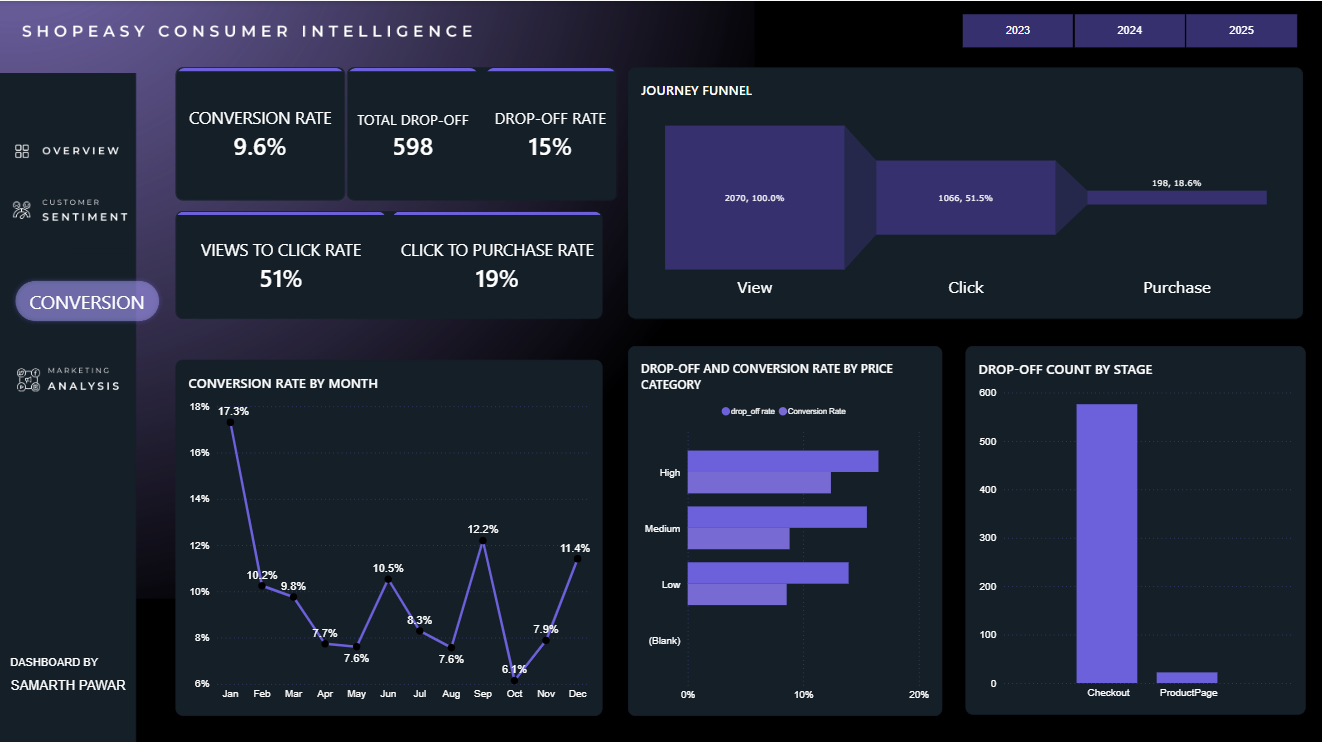

This screenshot's page, from the dashboard's own definition file:
{"tool":"powerbi","page":{"name":"Conversion Analysis","canvas":[1600,900],"ordinal":2},"visuals":[{"type":"cardVisual","fields":{"Data":["calculations.Conversion Rate"]},"box":[214.8,80.3,204.9,160.7],"z":0},{"type":"cardVisual","fields":{"Data":["calculations.Total Dropoffs","calculations.drop_off rate"]},"box":[420.2,79.8,326.7,161],"z":1000},{"type":"columnChart","title":"DROP-OFF COUNT BY STAGE","fields":{"Category":["customer_journey_cleaned.Stage"],"Y":["CountNonNull(customer_journey_cleaned.JourneyID)"]},"box":[1166.7,416.7,410,445],"z":2000},{"type":"clusteredBarChart","title":"DROP-OFF AND CONVERSION RATE BY PRICE CATEGORY","fields":{"Category":["products.Price Category"],"Y":["calculations.drop_off rate","calculations.Conversion Rate"]},"box":[760.7,415.6,378.8,446.3],"z":3000},{"type":"cardVisual","fields":{"Data":["calculations.View to Click Rate","calculations.Click to Purchase Rate"]},"box":[214.7,253.1,515.3,130.4],"z":4000},{"type":"stackedhorizontalfunnelEC4E2CF18990EF8267C380787C9A6BC9","title":"JOURNEY FUNNEL","fields":{"col_0":["customer_journey_cleaned.Action"],"col_1":["CountNonNull(customer_journey_cleaned.JourneyID)"]},"box":[760.7,80.3,814.8,303.3],"z":5000},{"type":"lineChart","title":"CONVERSION RATE BY MONTH","fields":{"Category":["Calendar.MonthNameShort"],"Y":["calculations.Conversion Rate"]},"box":[214.7,432.5,515.3,429.5],"z":6000},{"type":"slicer","fields":{"Values":["Calendar.Date.Variation.Date Hierarchy.Year"]},"box":[1142.6,13.1,442.6,44.3],"z":7000},{"type":"shape","box":[11.7,305,150,111.7],"z":8000},{"type":"shape","box":[0,316.7,215,90],"z":9000},{"type":"pageNavigator","box":[0,131.7,183.3,100],"z":10000},{"type":"pageNavigator","box":[0,205,183.3,100],"z":11000},{"type":"pageNavigator","box":[0,400,183.3,100],"z":12000},{"type":"textbox","box":[0,789.9,182.5,72.1],"z":13000}]}

Visuals, with their boxes in screenshot pixels (x1, y1, x2, y2), scaled from the page's 1600x900 canvas onto the 1322x742 screenshot:
cardVisual - calculations.Conversion Rate: 177,66,347,199
cardVisual - calculations.Total Dropoffs x calculations.drop_off rate: 347,66,617,199
"DROP-OFF COUNT BY STAGE" columnChart: 964,344,1303,710
"DROP-OFF AND CONVERSION RATE BY PRICE CATEGORY" clusteredBarChart: 629,343,942,711
cardVisual - calculations.View to Click Rate x calculations.Click to Purchase Rate: 177,209,603,316
"JOURNEY FUNNEL" stackedhorizontalfunnelEC4E2CF18990EF8267C380787C9A6BC9: 629,66,1302,316
"CONVERSION RATE BY MONTH" lineChart: 177,357,603,711
slicer - Calendar.Date.Variation.Date Hierarchy.Year: 944,11,1310,47
shape: 10,251,134,344
shape: 0,261,178,335
pageNavigator: 0,109,151,191
pageNavigator: 0,169,151,251
pageNavigator: 0,330,151,412
textbox: 0,651,151,711
